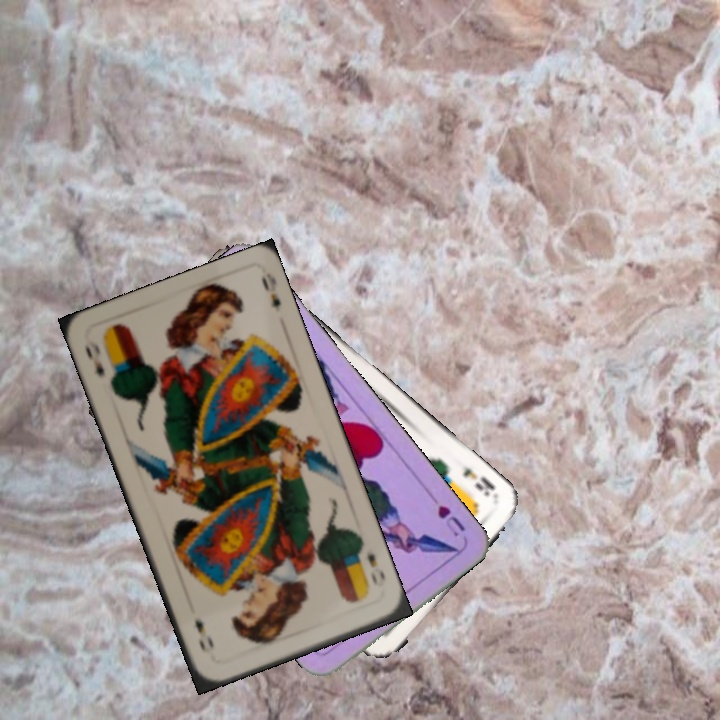EK: (458, 463, 498, 499)
EO: (81, 336, 108, 379), (362, 547, 388, 588)
HU: (433, 501, 469, 539)
